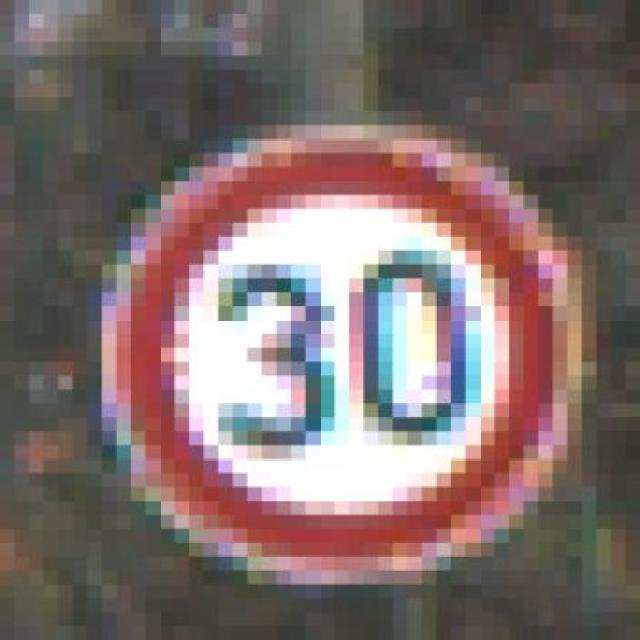Speed Limit 30 KMPh: (87, 70, 611, 612)
